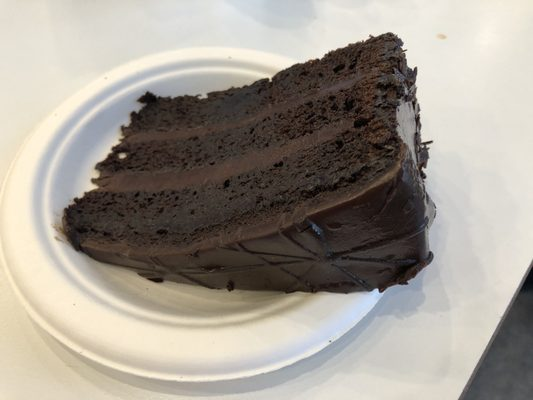sushi: (54, 31, 436, 296)
